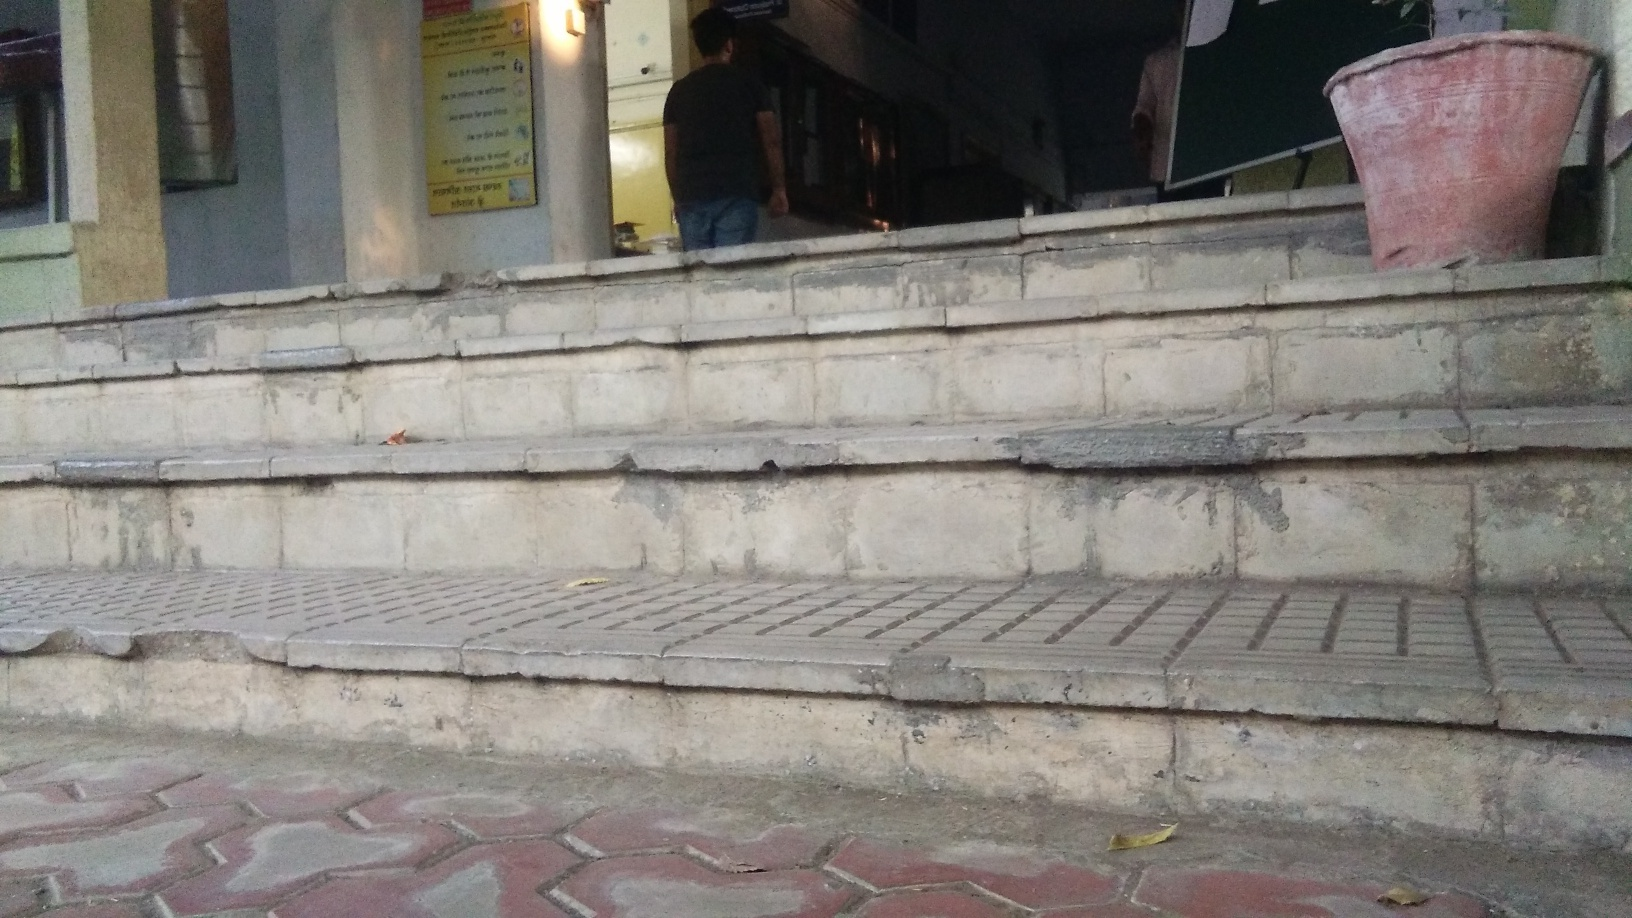stairs_up: (10, 194, 1595, 810)
